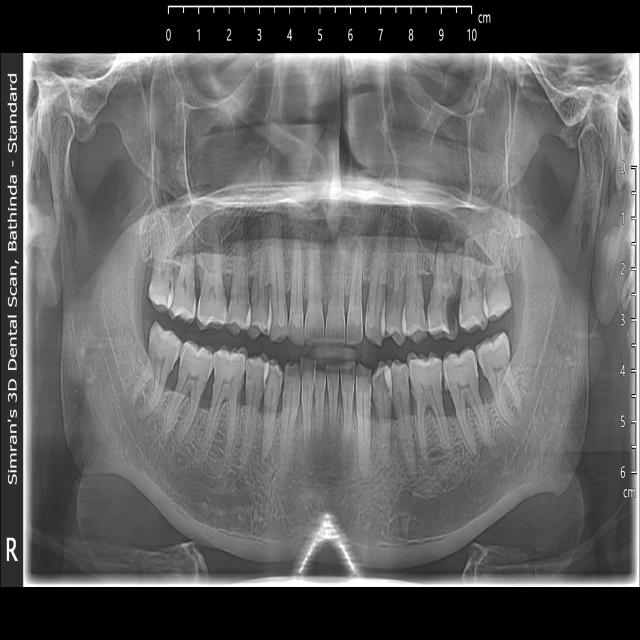Caries: (427, 295, 460, 340), (146, 263, 177, 306)
Filling: (372, 362, 393, 408)
Periapical lesion: (432, 230, 462, 261)
